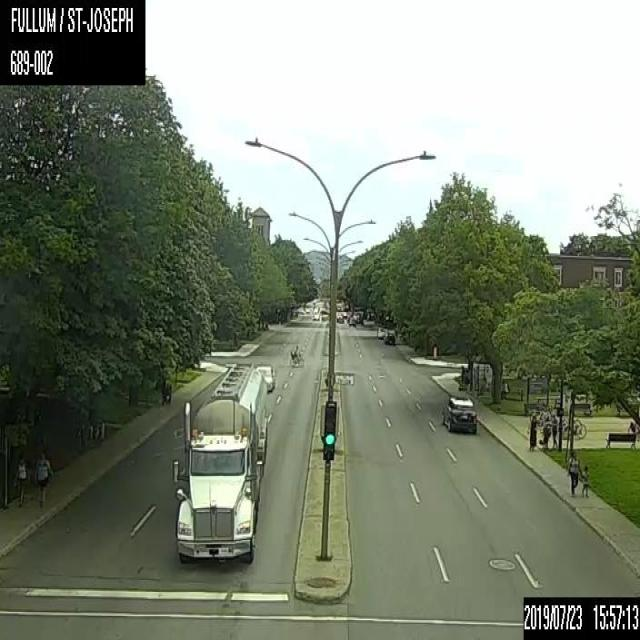cyclist: (290, 345, 305, 367)
pedestrian: (35, 451, 53, 506), (13, 456, 30, 505), (565, 449, 580, 495), (528, 414, 538, 450), (580, 464, 589, 498), (542, 418, 550, 450), (550, 418, 558, 447), (160, 379, 166, 404), (628, 421, 636, 432), (166, 381, 170, 401)
vehicle: (171, 363, 266, 565), (441, 393, 476, 435), (254, 363, 274, 392), (384, 331, 394, 344), (336, 312, 343, 322)
